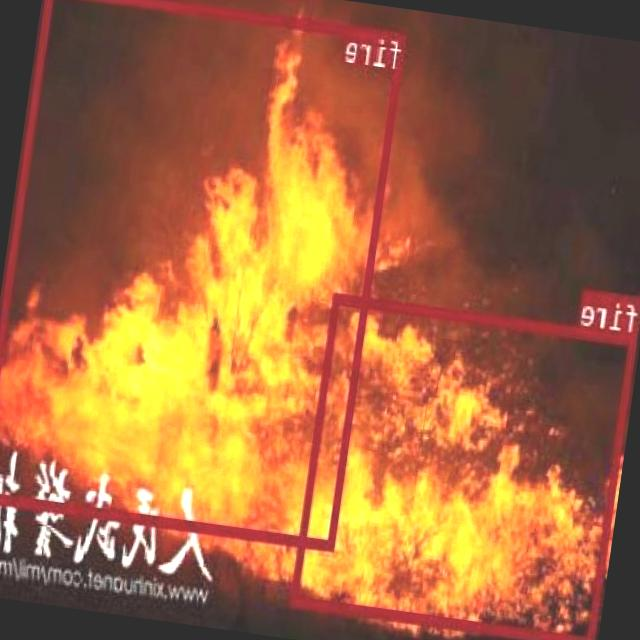fire: (0, 0, 407, 549), (291, 292, 638, 640)
